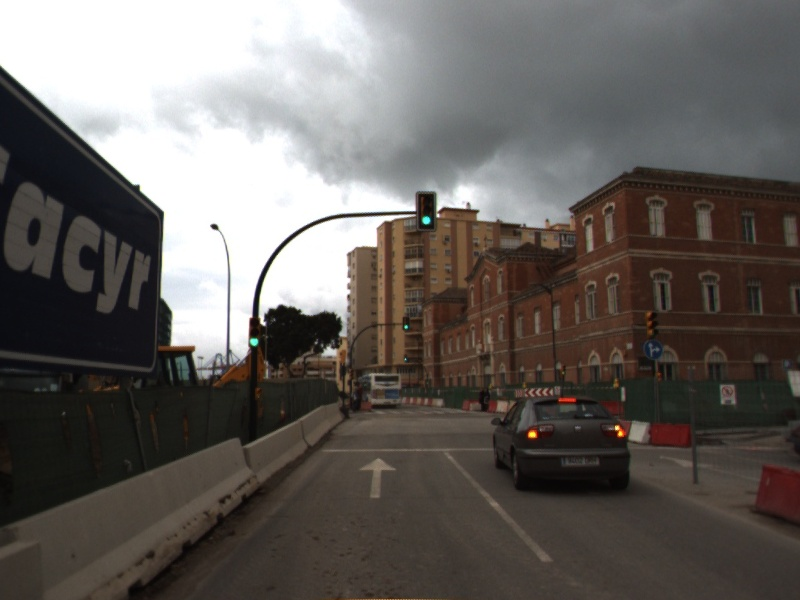STRAIGHT: (357, 456, 399, 500)
